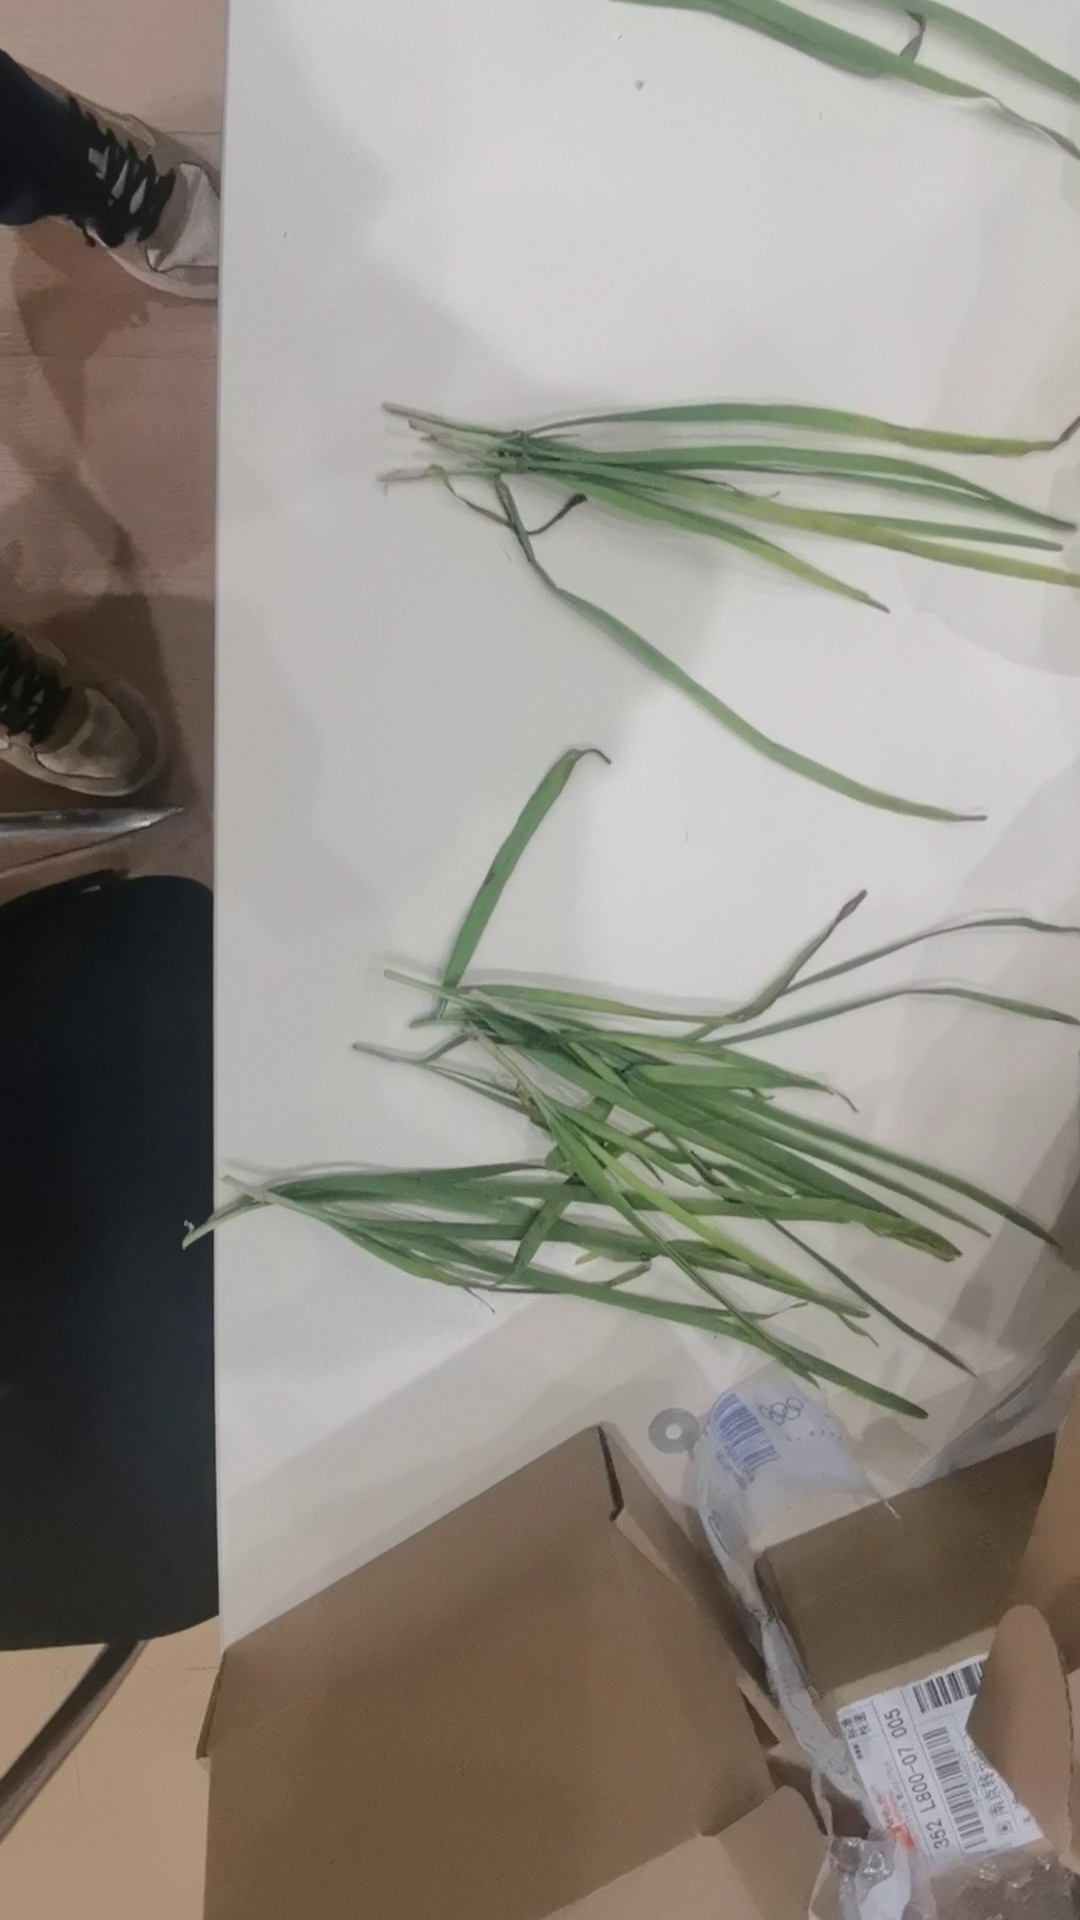chives: (220, 770, 1063, 1458), (361, 367, 1080, 835), (632, 4, 1080, 171)
